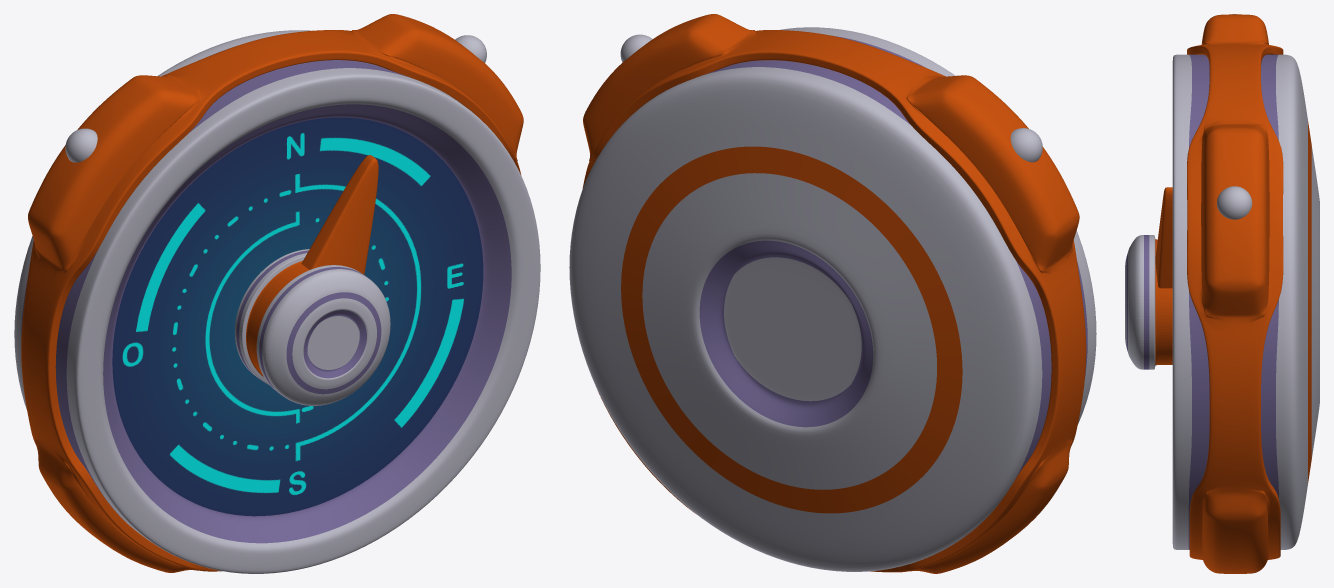
The model's file is Brujula.fbx.
3 views of the same model, side by side, from view 1: azimuth 30°, elevation 25°; view 2: azimuth 150°, elevation 25°; view 3: azimuth 270°, elevation 25° (orthographic). The views are drawn at different scales.
Parts seen in each view (by area): view 1: Brujula; view 2: Brujula; view 3: Brujula.
Part boxes in pixels (box(x1,y1,x2,y2)): Brujula: box(14, 14, 540, 573); Brujula: box(569, 14, 1096, 573); Brujula: box(1125, 14, 1319, 573).
Bounding box in the file's own units: 207 × 207 × 78.15.
